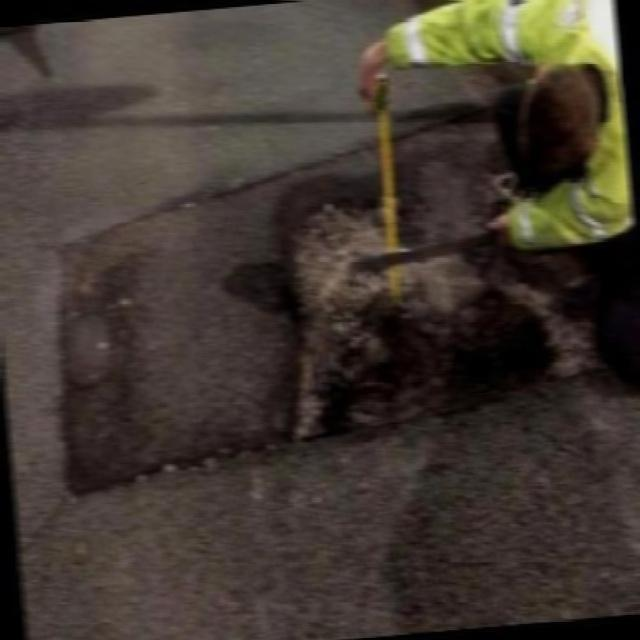Pothole: (35, 102, 614, 504)
